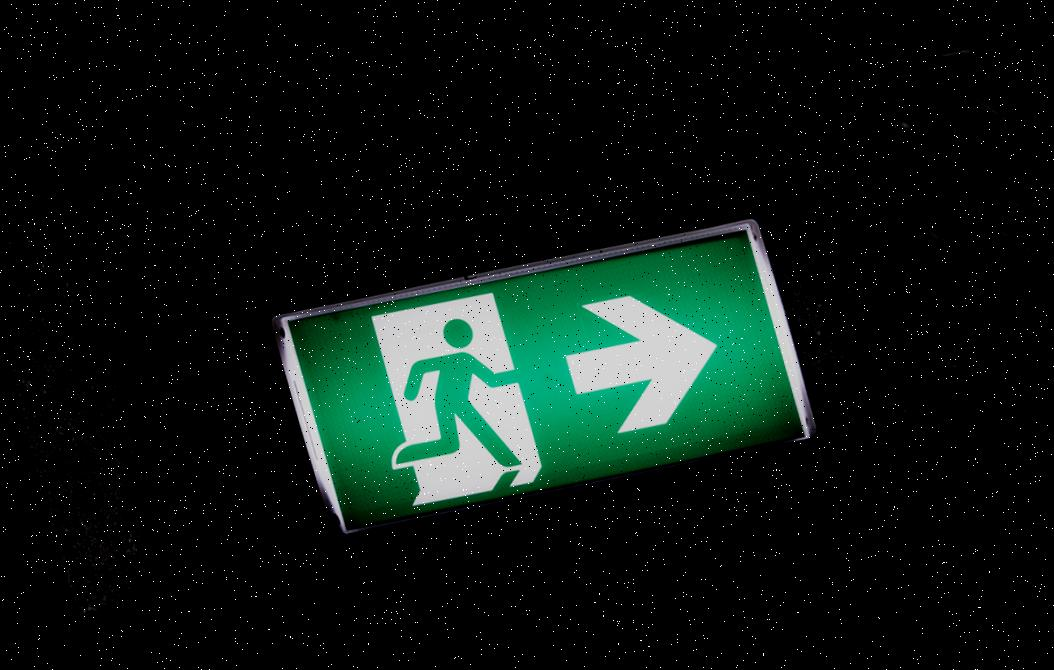emergency_exit: (272, 218, 817, 535)
